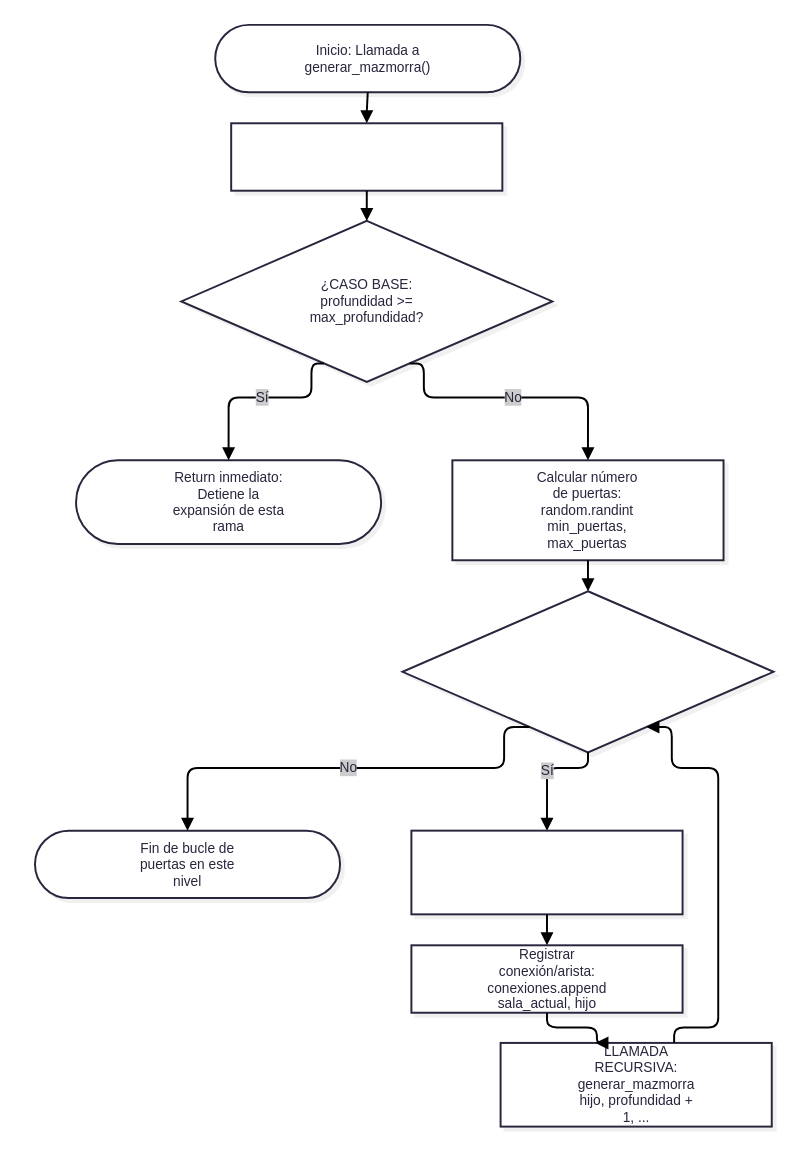
The diagram is 808 pixels wide and 1151 high, and some of its shapes have lost their labels. The shapes that lost their labels are listed below. From the top down, each one's centre as x and y in pixels, then its label:
At (368,158): "Registrar sala actual: salas.append sala_actual".
At (589,673): "¿Quedan puertas por generar y nombres en nombres_disponibles?".
At (548,874): "Extraer sala hijo: hijo = nombres_disponibles.pop 0".
